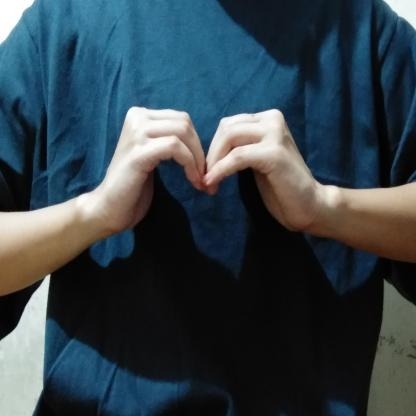how: (82, 90, 338, 252)
